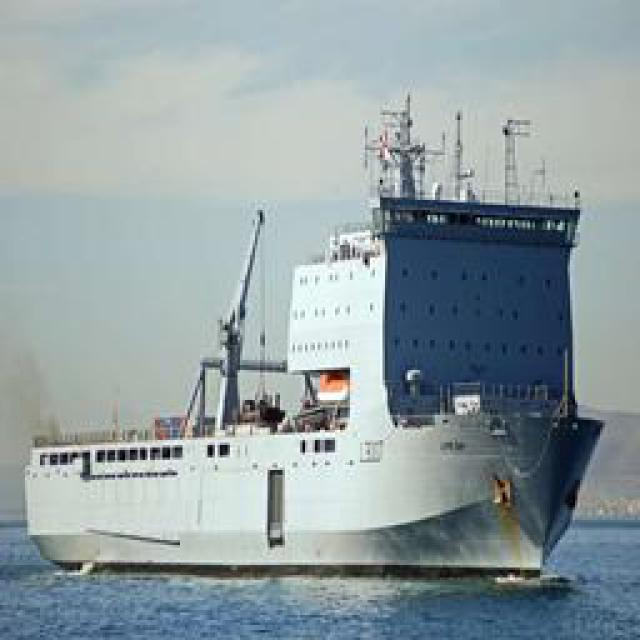Ship: (27, 150, 605, 585)
